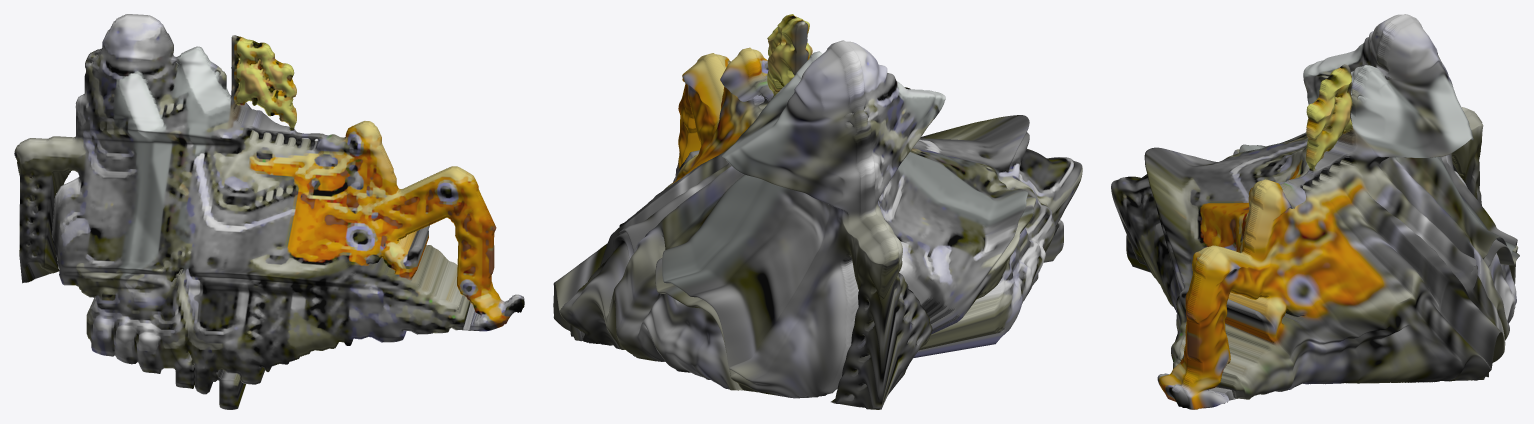
File: tech_outpost.glb
The picture shows the model from 3 angles, left to right: view 1: azimuth 30°, elevation 25°; view 2: azimuth 150°, elevation 25°; view 3: azimuth 270°, elevation 25°; orthographic projection. The views are drawn at different scales.
Parts seen in each view (by area): view 1: tech_outpost; view 2: tech_outpost; view 3: tech_outpost.
Part boxes in pixels (left/top/right/bottom): tech_outpost: left=14, top=14, right=524, bottom=409; tech_outpost: left=553, top=14, right=1082, bottom=409; tech_outpost: left=1111, top=14, right=1519, bottom=409.
Bounding box in the file's own units: 1.82 × 1.33 × 1.84.
